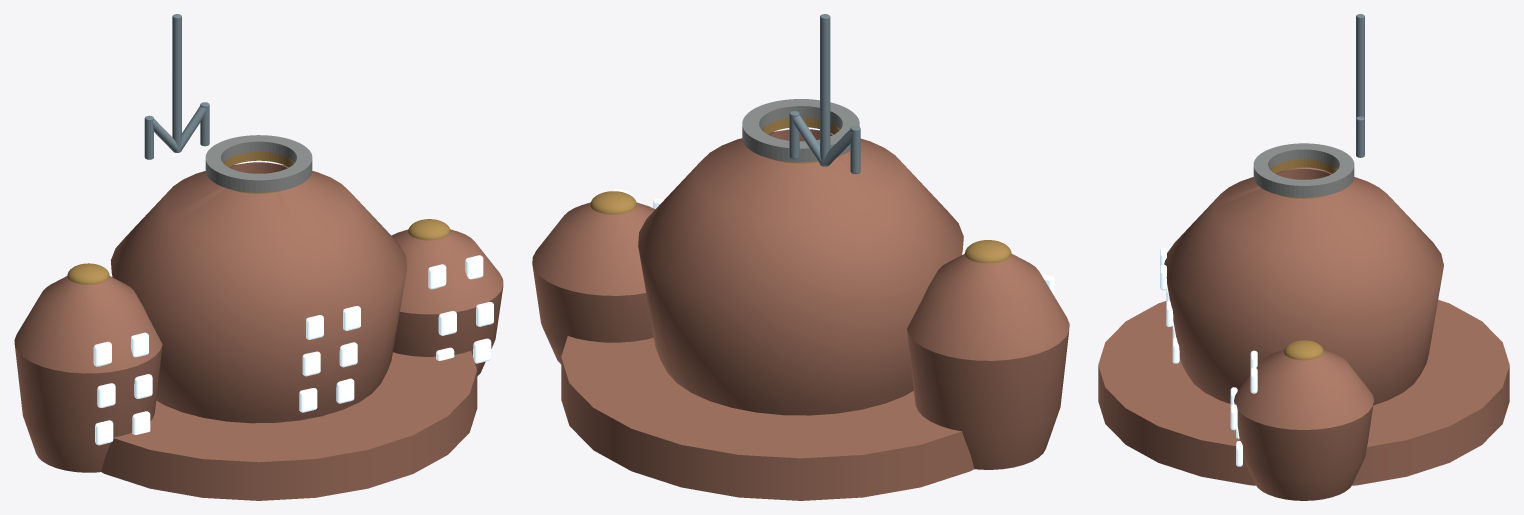
The picture shows the model from 3 angles, left to right: view 1: azimuth 30°, elevation 25°; view 2: azimuth 150°, elevation 25°; view 3: azimuth 270°, elevation 25°; orthographic projection. The views are drawn at different scales.
Parts seen in each view (by area): view 1: Bulb shaped chamber, Foundation drum, Bulb shaped chamber.002, Bulb shaped chamber.001, Permanently exposed emitter collar, Aerial stem, Tower crown.002, Tower crown.001, Tower crown; view 2: Bulb shaped chamber, Foundation drum, Bulb shaped chamber.002, Bulb shaped chamber.001, Permanently exposed emitter collar, Aerial stem, Tower crown.001, Tower crown.002, Tower crown; view 3: Bulb shaped chamber, Foundation drum, Bulb shaped chamber.001, Permanently exposed emitter collar, Aerial stem, Tower crown.001, Tower crown.
Boxes of the visible parts, box(x1,y1,x2,y2) form: Bulb shaped chamber: box(110, 162, 407, 423); Foundation drum: box(101, 351, 477, 500); Bulb shaped chamber.002: box(14, 276, 162, 472); Bulb shaped chamber.001: box(391, 229, 503, 376); Permanently exposed emitter collar: box(205, 135, 312, 192); Aerial stem: box(172, 14, 181, 152); Tower crown.002: box(67, 263, 109, 284); Tower crown.001: box(408, 219, 450, 240); Tower crown: box(223, 152, 294, 193); Bulb shaped chamber: box(638, 129, 963, 415); Foundation drum: box(561, 336, 974, 500); Bulb shaped chamber.002: box(907, 253, 1069, 469); Bulb shaped chamber.001: box(532, 202, 655, 364); Permanently exposed emitter collar: box(742, 99, 859, 162); Aerial stem: box(820, 14, 830, 166); Tower crown.001: box(590, 191, 636, 214); Tower crown.002: box(965, 240, 1011, 263); Tower crown: box(762, 117, 839, 163); Bulb shaped chamber: box(1164, 169, 1443, 405); Foundation drum: box(1098, 300, 1509, 485); Bulb shaped chamber.001: box(1234, 350, 1373, 500); Permanently exposed emitter collar: box(1253, 143, 1354, 197); Aerial stem: box(1356, 14, 1364, 117); Tower crown.001: box(1284, 340, 1323, 360); Tower crown: box(1270, 159, 1337, 198).
Bounding box in the file's own units: 2.53 × 1.98 × 2.04.
